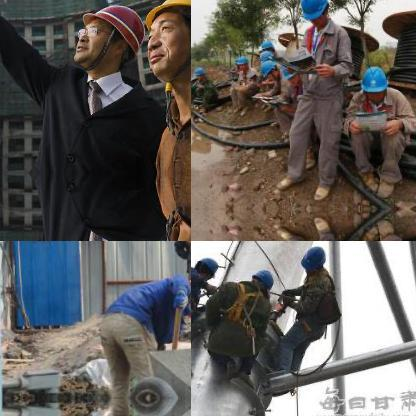Helmet: (72, 0, 147, 74), (138, 0, 190, 87), (298, 241, 328, 282), (358, 62, 387, 102), (297, 0, 332, 24), (246, 265, 274, 293), (191, 251, 217, 278), (258, 60, 278, 78), (183, 276, 190, 318), (258, 49, 276, 63), (236, 52, 249, 70), (260, 38, 274, 52), (194, 64, 204, 78)
